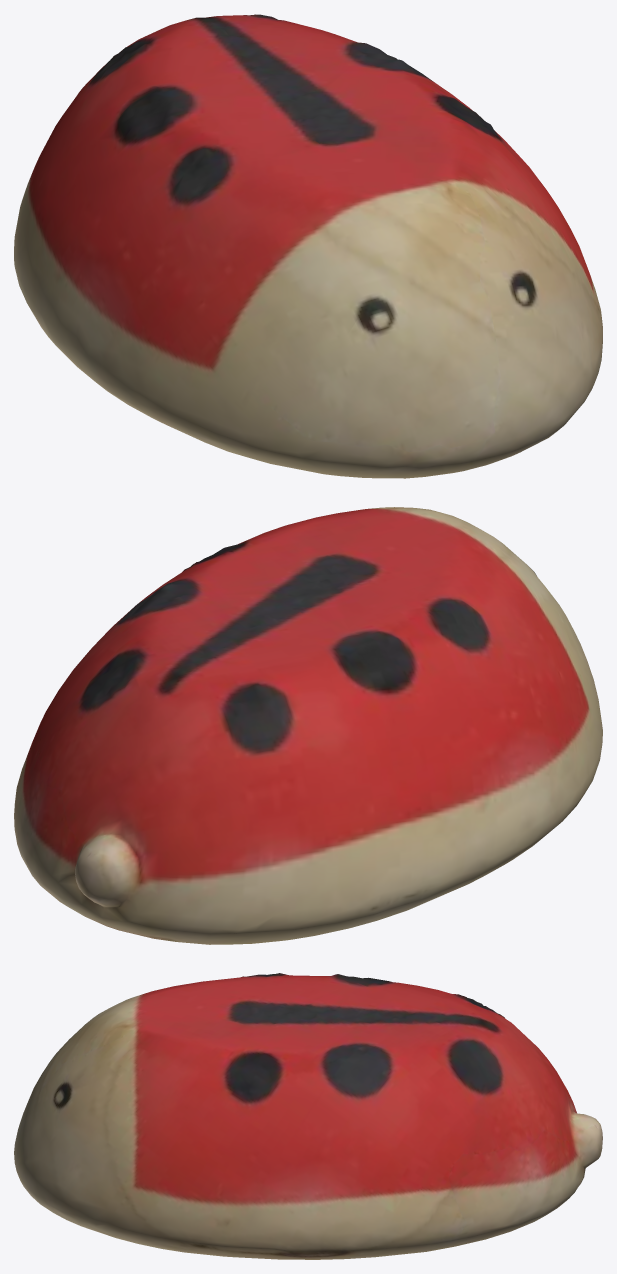
Rendered from ladybug.glb.
3 views of the same model, one above another, from view 1: azimuth 30°, elevation 25°; view 2: azimuth 150°, elevation 25°; view 3: azimuth 270°, elevation 25° (orthographic). The views are drawn at different scales.
Visible parts, largest first — view 1: LADYBUG_BEAD; view 2: LADYBUG_BEAD; view 3: LADYBUG_BEAD.
Part boxes in pixels (x1,y1,x2,y2): LADYBUG_BEAD: (14, 14, 602, 478); LADYBUG_BEAD: (14, 507, 602, 944); LADYBUG_BEAD: (14, 973, 602, 1259).
Bounding box in the file's own units: 0.0571 × 0.0303 × 0.0842.
1 material, 1 textured.
